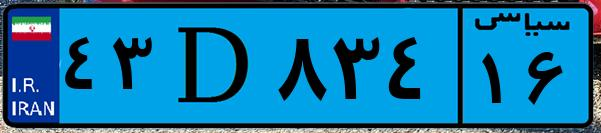1: (475, 38, 525, 113)
3: (330, 28, 385, 110), (110, 28, 158, 98)
4: (385, 28, 445, 110), (57, 26, 110, 100)
6: (525, 38, 570, 115)
8: (270, 28, 330, 110)
D: (158, 12, 270, 120)
